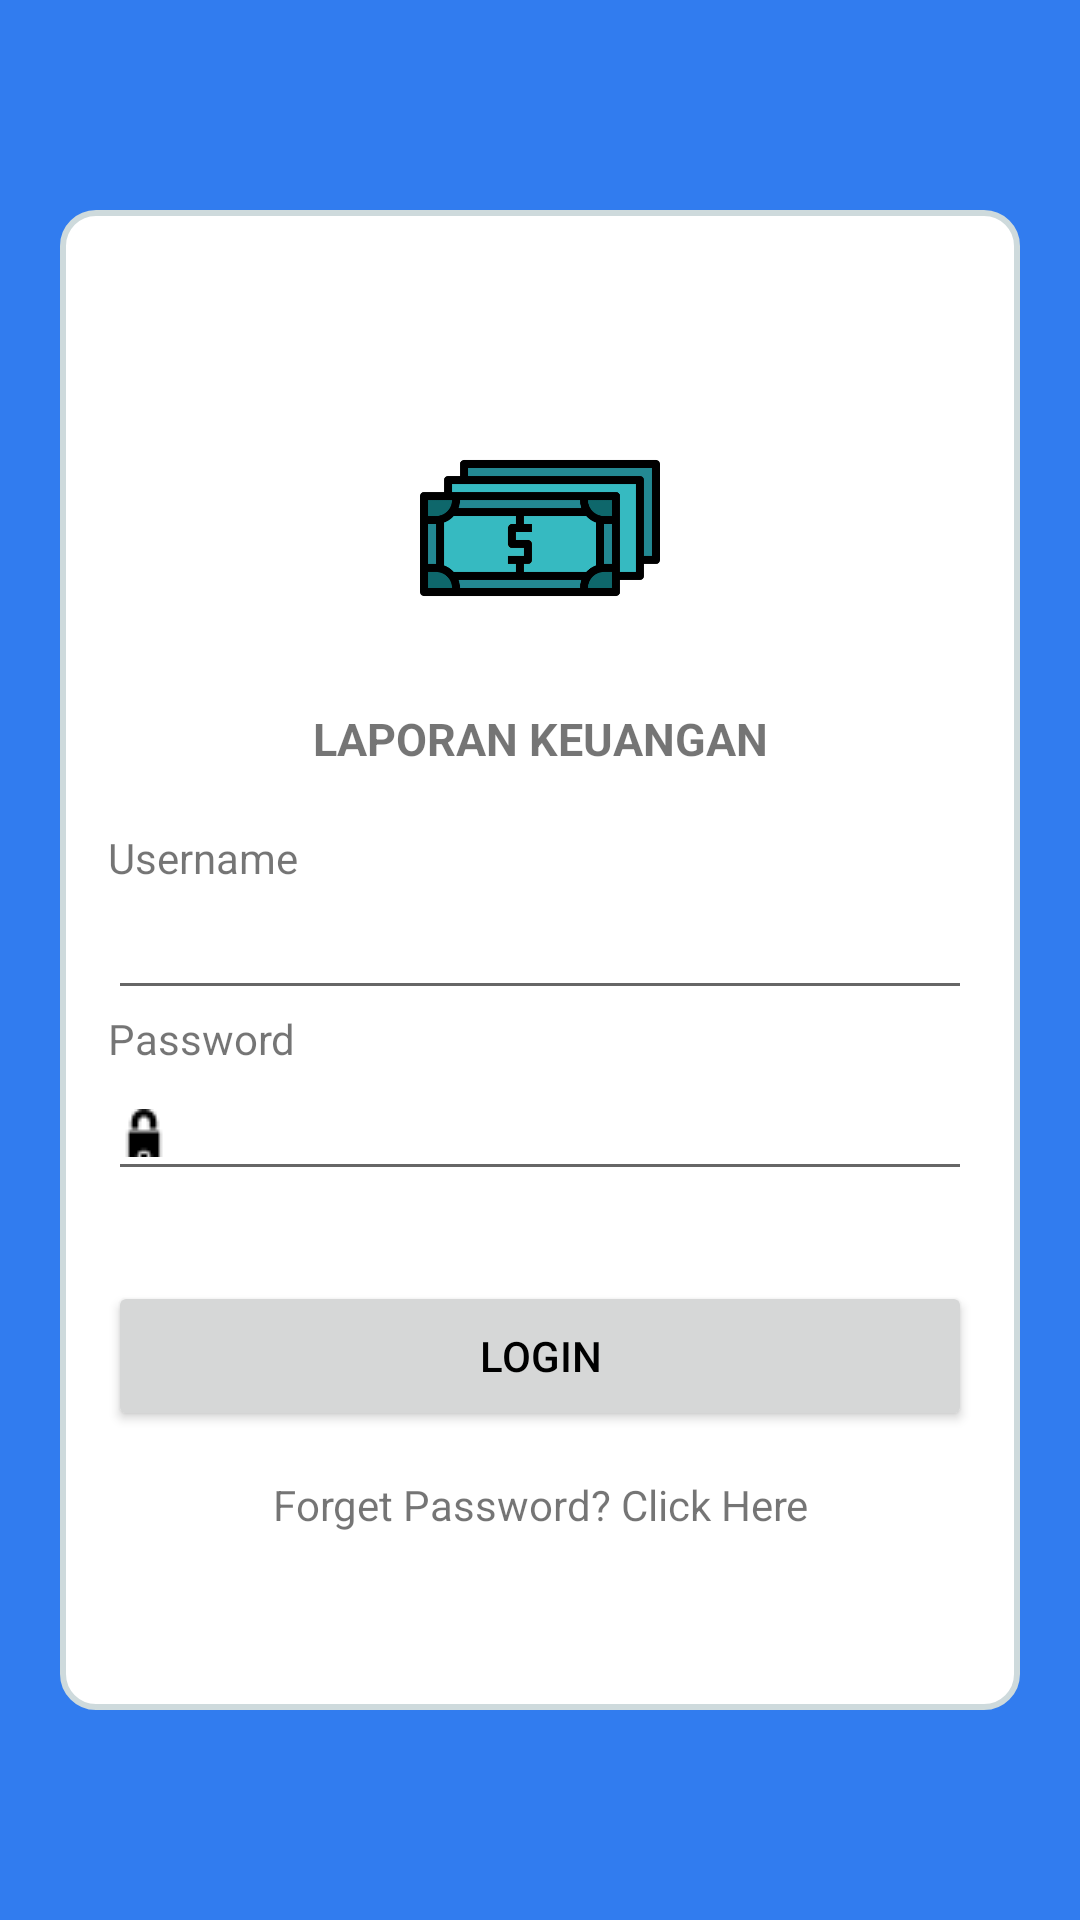

Point at icon controls on the screen. Image size 1080px x 1920px, points as (x,y).
money: (540,528)
